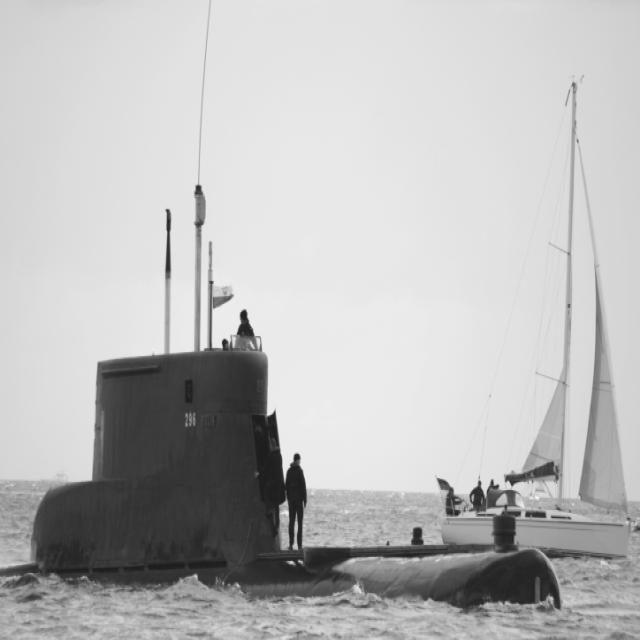submarine: (1, 345, 565, 609)
